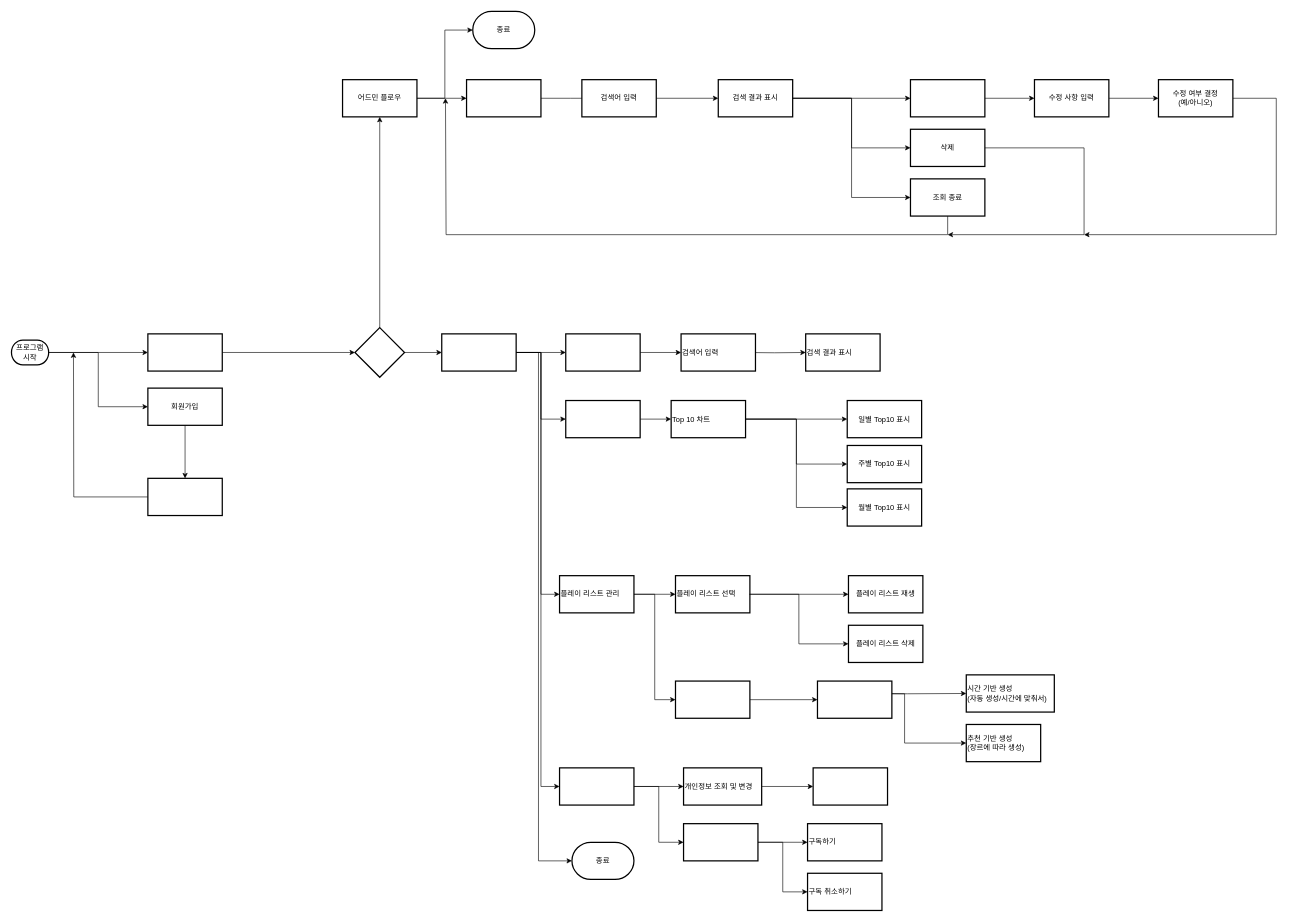
Image size: 1292x921. Some labels were removed from this diagram. Each missing label, with the centre of its shape:
"검색기능" goes at (602,352).
"구독제 관리" goes at (720,842).
"데이터 조회" goes at (503,98).
"로그인" goes at (185,352).
"사용자 관리" goes at (596,786).
"수정" goes at (947,98).
"아 귀찮아" goes at (850,786).
"아이디, 비밀번호 & 각종 개인정보 입력" goes at (185,496).
"어드민 인가?" goes at (379,352).
"유저 플로우" goes at (478,352).
"음악 추천" goes at (602,419).
"플레이 리스트 생성" goes at (712,699).
"플레이 리스트 이름 입력" goes at (854,699).
